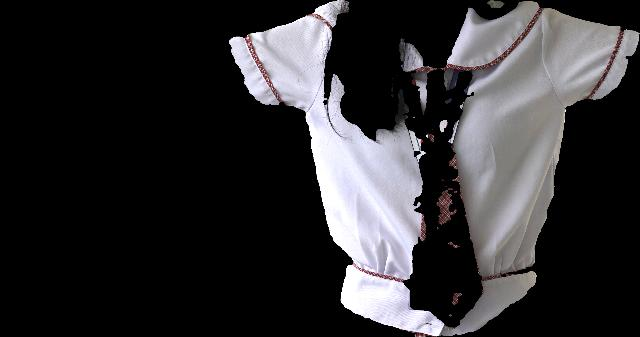pologirl: (229, 0, 639, 336)
